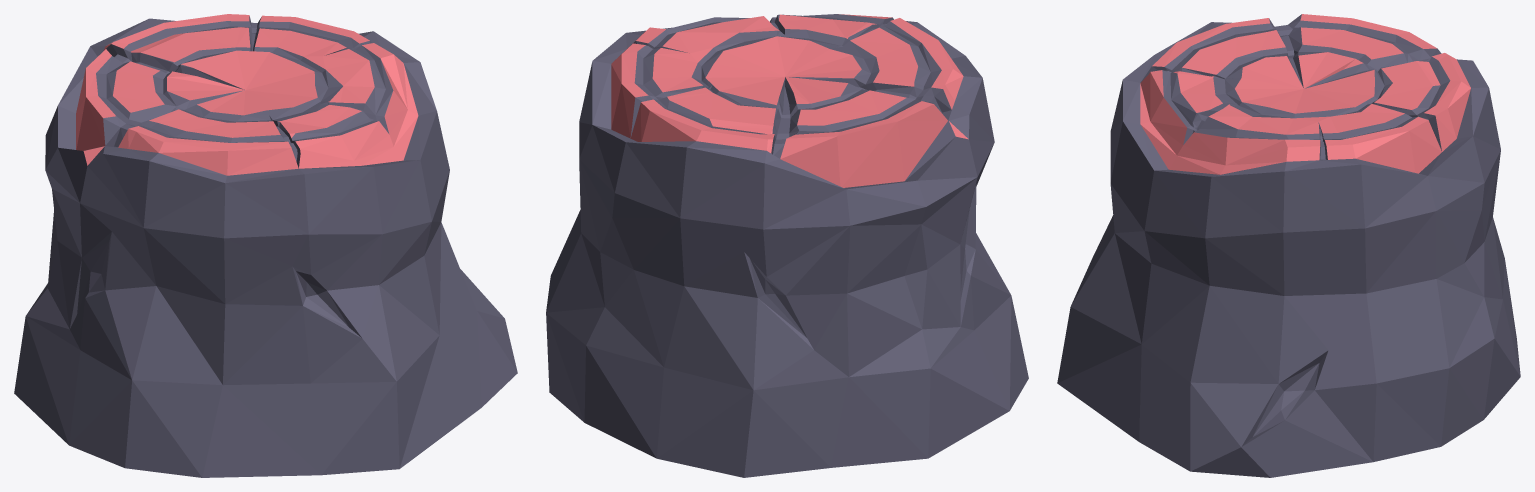
The model's file is SFFA_Log_003.fbx.
3 renders of one model, left to right at view 1: azimuth 30°, elevation 25°; view 2: azimuth 150°, elevation 25°; view 3: azimuth 270°, elevation 25°, orthographic. The views are drawn at different scales.
Visible parts, largest first — view 1: SFFA_Log_003; view 2: SFFA_Log_003; view 3: SFFA_Log_003.
Boxes of the visible parts, x1,y1,x2,y2 form: SFFA_Log_003: (14, 14, 517, 477); SFFA_Log_003: (546, 14, 1028, 477); SFFA_Log_003: (1057, 14, 1520, 477).
Size of the model in its own units: 92.84 by 63.11 by 90.94.
